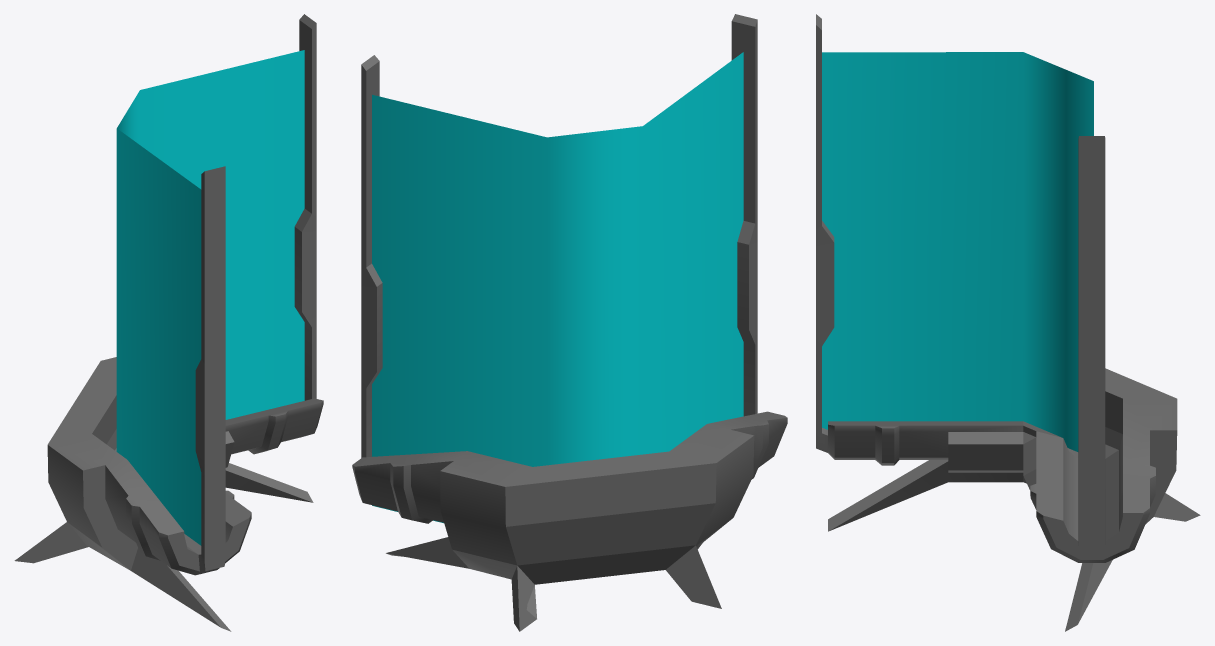
Rendered from Fence2.fbx.
3 renders of one model, left to right at view 1: azimuth 30°, elevation 25°; view 2: azimuth 150°, elevation 25°; view 3: azimuth 270°, elevation 25°, orthographic. The views are drawn at different scales.
Parts seen in each view (by area): view 1: pPlane3; view 2: pPlane3; view 3: pPlane3.
Boxes of the visible parts, x1,y1,x2,y2 form: pPlane3: (14, 14, 323, 631); pPlane3: (352, 14, 787, 631); pPlane3: (816, 14, 1200, 631).
Bounding box in the file's own units: 14.22 × 20.44 × 14.22.
